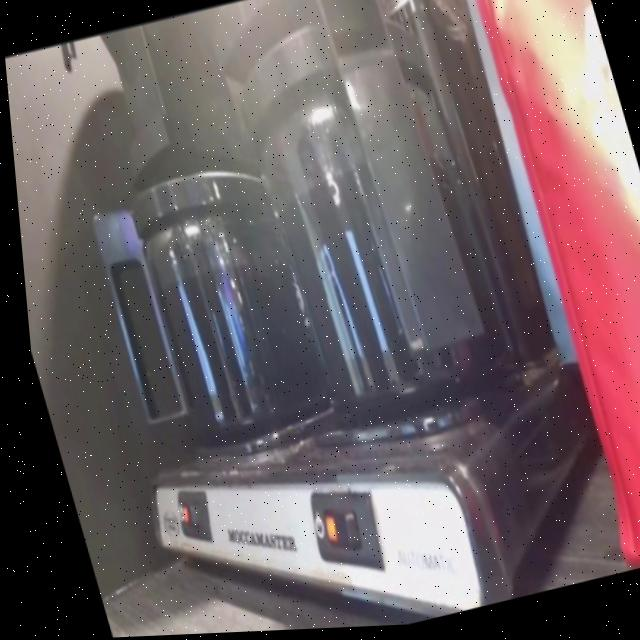coffee: (263, 119, 509, 417), (135, 215, 326, 441)
